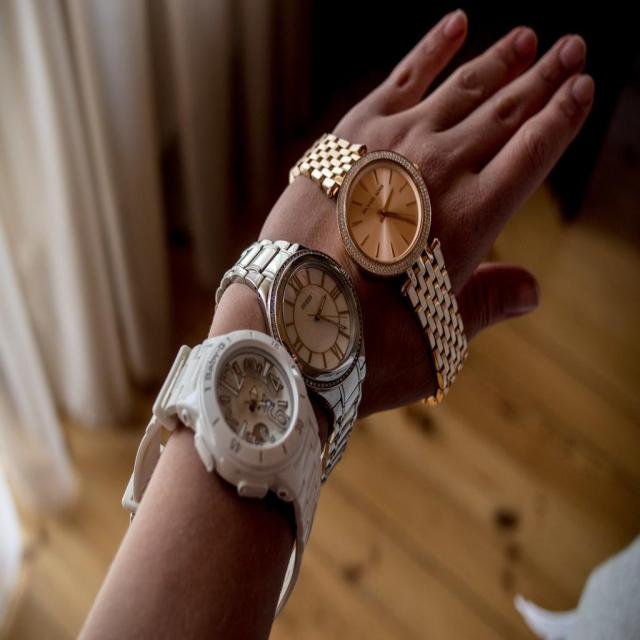Wrist watch: (123, 133, 468, 614)
